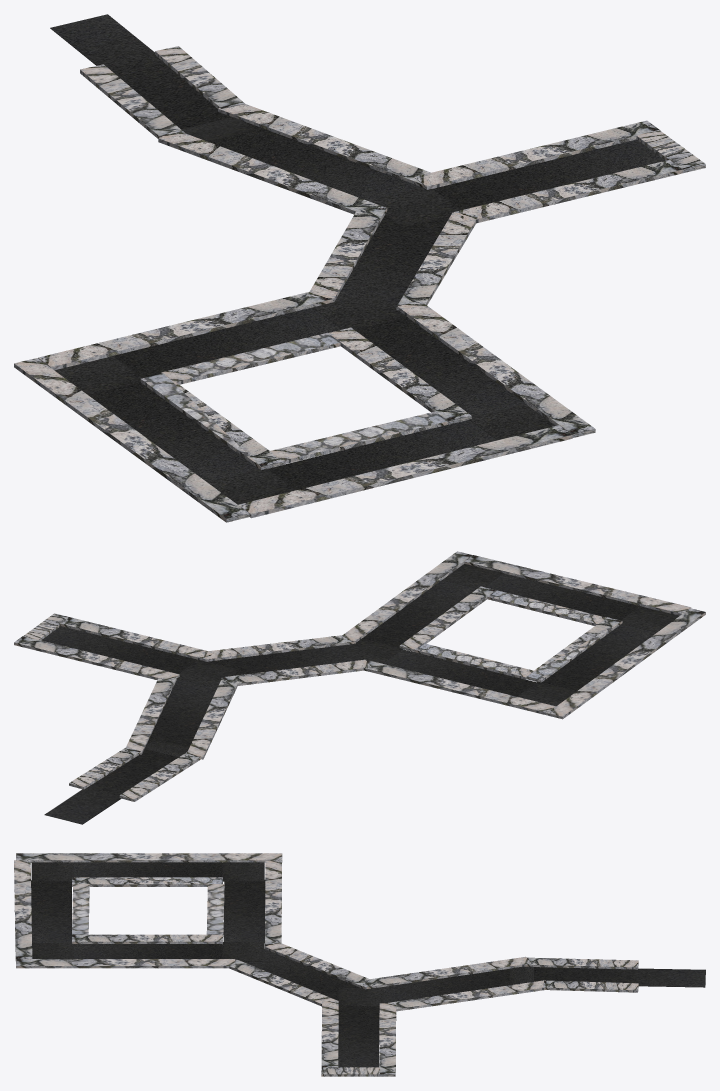
File: calles_banquetas.obj
3 renders of one model, top to bottom at view 1: azimuth 30°, elevation 25°; view 2: azimuth 150°, elevation 25°; view 3: azimuth 270°, elevation 25°, orthographic. The views are drawn at different scales.
Visible parts, largest first — view 1: Cube.001_Cube.003, Cube.003_Cube.006, Cube.005_Cube.012, Cube.008_Cube.015, Cube.004_Cube.007, Cube_Cube.001, Cube.002_Cube.011, Cube_Cube.005_Cube_Cube.006, Cube.007_Cube.014, Cube.006_Cube.013, Cube_Cube.002, Cube_Cube.004_Cube_Cube.005 (+19 smaller); view 2: Cube.001_Cube.003, Cube.003_Cube.006, Cube.005_Cube.012, Cube.008_Cube.015, Cube.007_Cube.014, Cube.002_Cube.011, Cube.004_Cube.007, Cube_Cube.001, Cube_Cube.005_Cube_Cube.006, Cube_Cube.004_Cube_Cube.005, Cube.006_Cube.013, Cube_Cube.002 (+19 smaller); view 3: Cube.001_Cube.003, Cube_Cube.001, Cube.004_Cube.007, Cube.008_Cube.015, Cube.002_Cube.011, Cube.005_Cube.012, Cube.003_Cube.006, Cube.007_Cube.014, Cube_Cube.002, Cube.006_Cube.013, Cube_Cube.005_Cube_Cube.006, Cube_Cube.010_Cube_Cube.012 (+19 smaller).
Part boxes in pixels (left/top/right/bottom): Cube.001_Cube.003: left=50, top=14, right=231, bottom=129; Cube.003_Cube.006: left=355, top=317, right=525, bottom=416; Cube.005_Cube.012: left=89, top=382, right=258, bottom=481; Cube.008_Cube.015: left=433, top=139, right=665, bottom=209; Cube.004_Cube.007: left=108, top=307, right=341, bottom=377; Cube_Cube.001: left=14, top=358, right=249, bottom=522; Cube.002_Cube.011: left=268, top=420, right=496, bottom=489; Cube_Cube.005_Cube_Cube.006: left=238, top=425, right=572, bottom=518; Cube.007_Cube.014: left=208, top=121, right=421, bottom=200; Cube.006_Cube.013: left=334, top=215, right=449, bottom=307; Cube_Cube.002: left=398, top=300, right=595, bottom=437; Cube_Cube.004_Cube_Cube.005: left=38, top=292, right=332, bottom=370; Cube.001_Cube.003: left=44, top=749, right=177, bottom=824; Cube.003_Cube.006: left=362, top=580, right=476, bottom=647; Cube.005_Cube.012: left=542, top=624, right=656, bottom=690; Cube.008_Cube.015: left=41, top=626, right=197, bottom=673; Cube.007_Cube.014: left=146, top=679, right=217, bottom=747; Cube.002_Cube.011: left=485, top=573, right=641, bottom=620; Cube.004_Cube.007: left=383, top=649, right=535, bottom=696; Cube_Cube.001: left=547, top=608, right=705, bottom=719; Cube_Cube.005_Cube_Cube.006: left=464, top=555, right=691, bottom=615; Cube_Cube.004_Cube_Cube.005: left=364, top=660, right=555, bottom=715; Cube.006_Cube.013: left=207, top=644, right=358, bottom=675; Cube_Cube.002: left=339, top=551, right=472, bottom=642; Cube.001_Cube.003: left=534, top=967, right=705, bottom=987; Cube_Cube.001: left=16, top=853, right=282, bottom=862; Cube.004_Cube.007: left=223, top=880, right=265, bottom=942; Cube.008_Cube.015: left=338, top=1007, right=379, bottom=1067; Cube.002_Cube.011: left=31, top=880, right=71, bottom=942; Cube.005_Cube.012: left=73, top=862, right=222, bottom=877; Cube.003_Cube.006: left=73, top=944, right=222, bottom=958; Cube.007_Cube.014: left=379, top=968, right=512, bottom=1003; Cube_Cube.002: left=16, top=959, right=235, bottom=968; Cube.006_Cube.013: left=242, top=949, right=359, bottom=1000; Cube_Cube.005_Cube_Cube.006: left=14, top=860, right=32, bottom=960; Cube_Cube.010_Cube_Cube.012: left=363, top=956, right=530, bottom=988.
Size of the model in its own units: 3496 by 19.62 by 4622.
31 materials, 31 textured.
